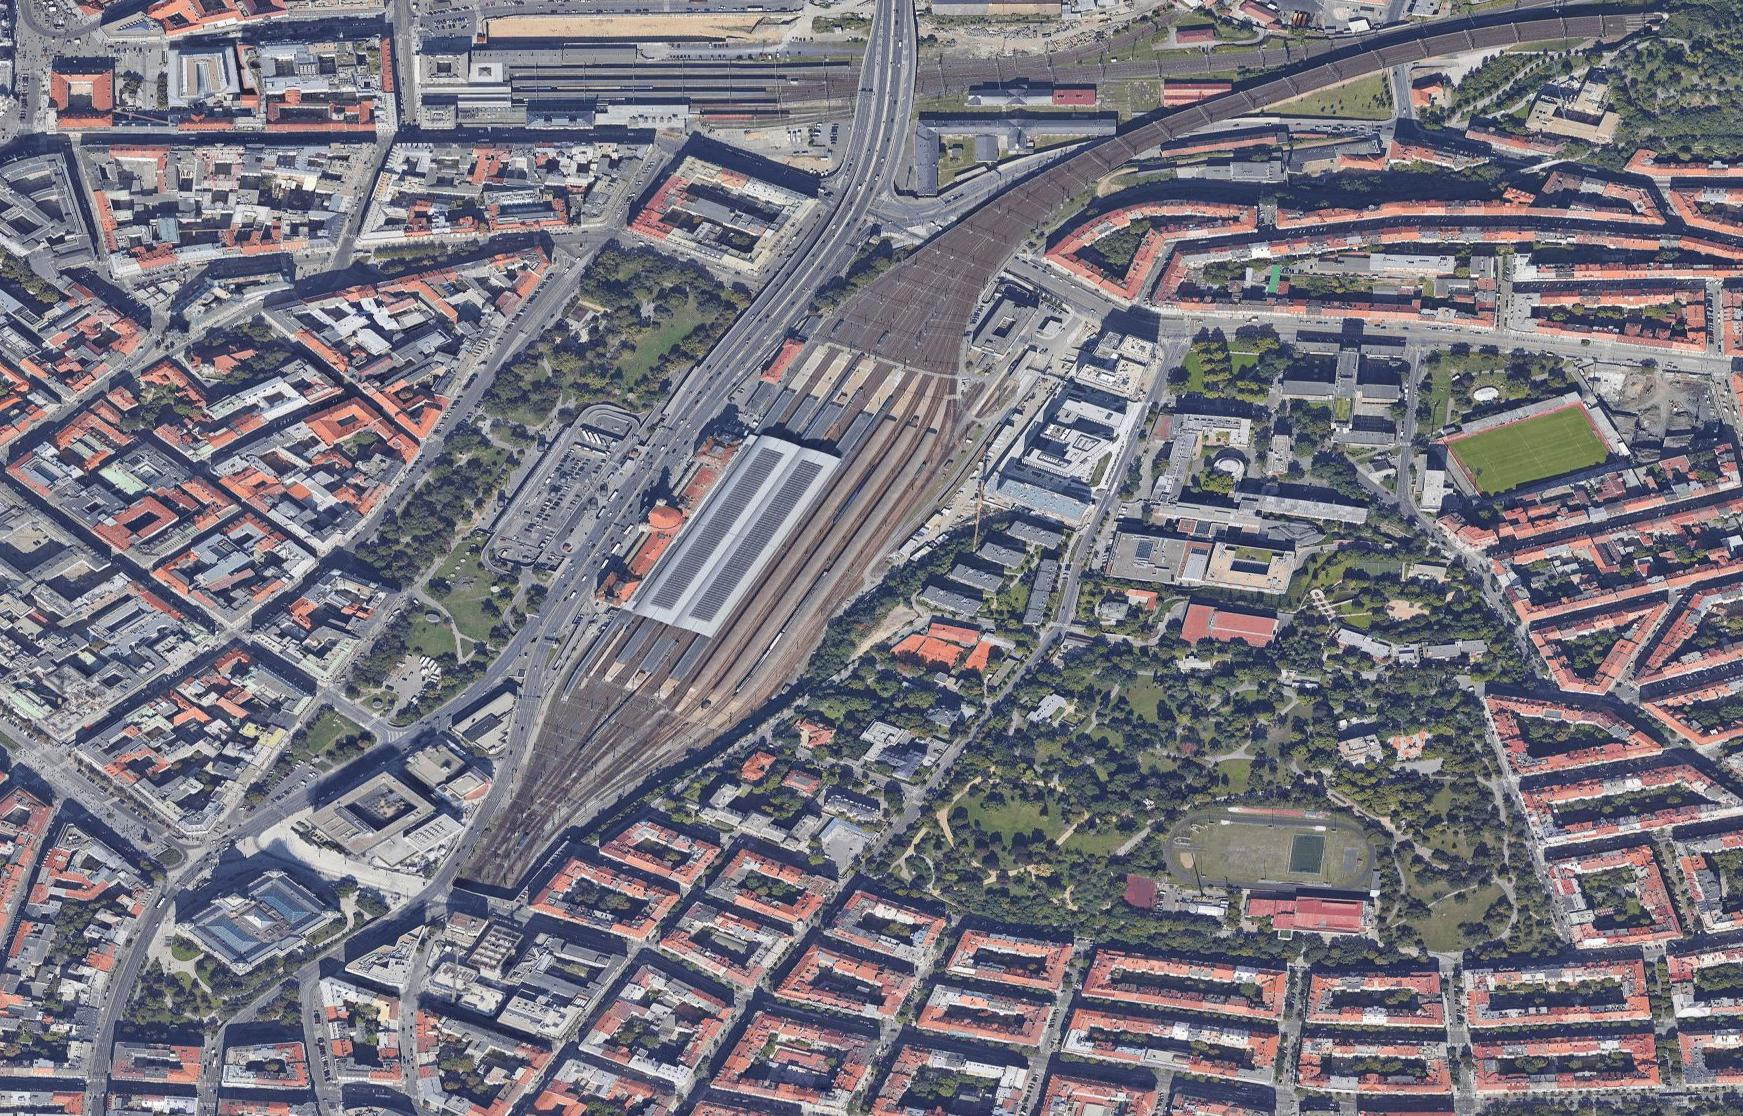motorway: (531, 473, 650, 646), (642, 332, 760, 472), (756, 186, 856, 339), (849, 1, 924, 194), (498, 644, 572, 764), (446, 763, 522, 877)
train_station: (591, 356, 934, 726)
